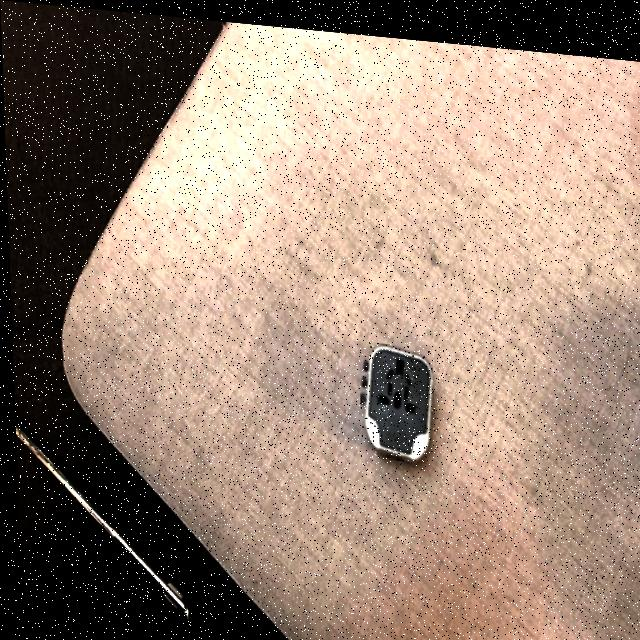adapter: (356, 334, 433, 456)
